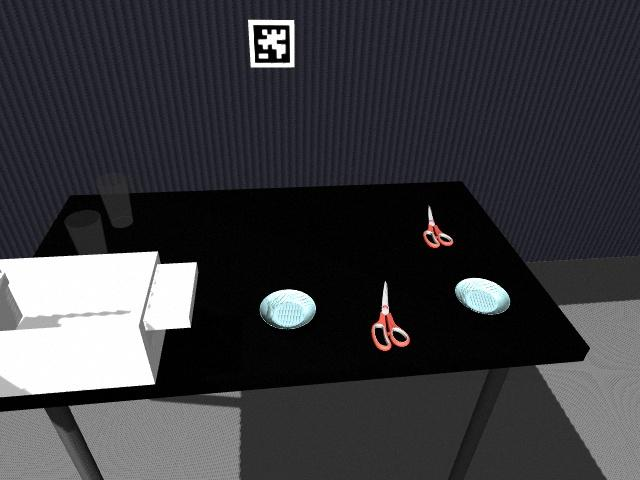cup: (95, 172, 134, 228), (65, 211, 105, 255)
plate: (258, 289, 316, 330), (453, 276, 512, 315), (458, 280, 480, 305), (268, 291, 292, 310), (264, 300, 276, 325)
scissors: (371, 278, 414, 352), (423, 204, 454, 248)
